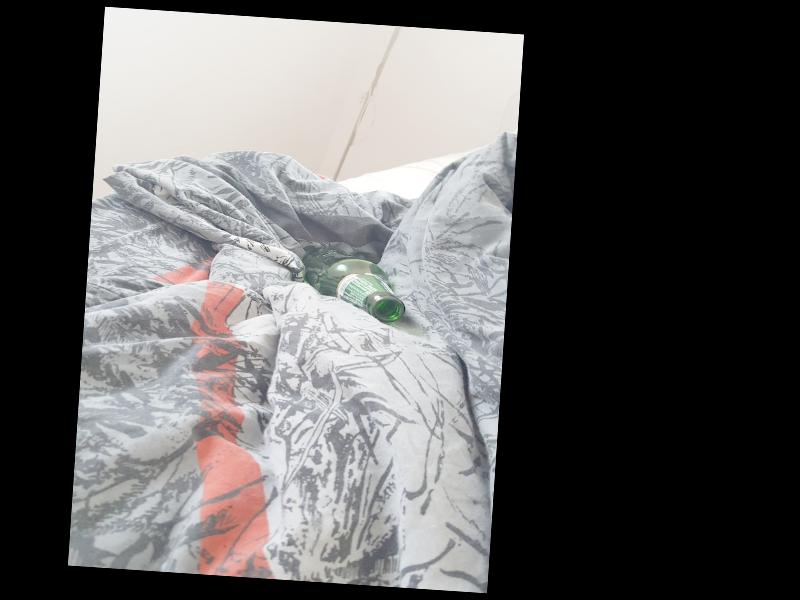Beer: (296, 246, 409, 324)
